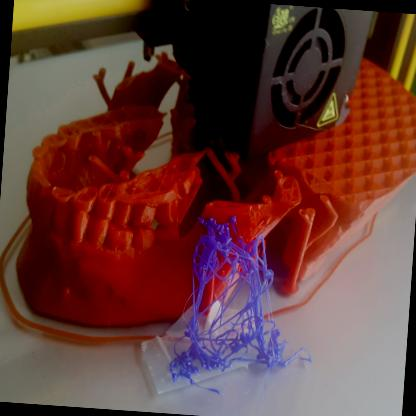fail: (182, 208, 315, 386)
